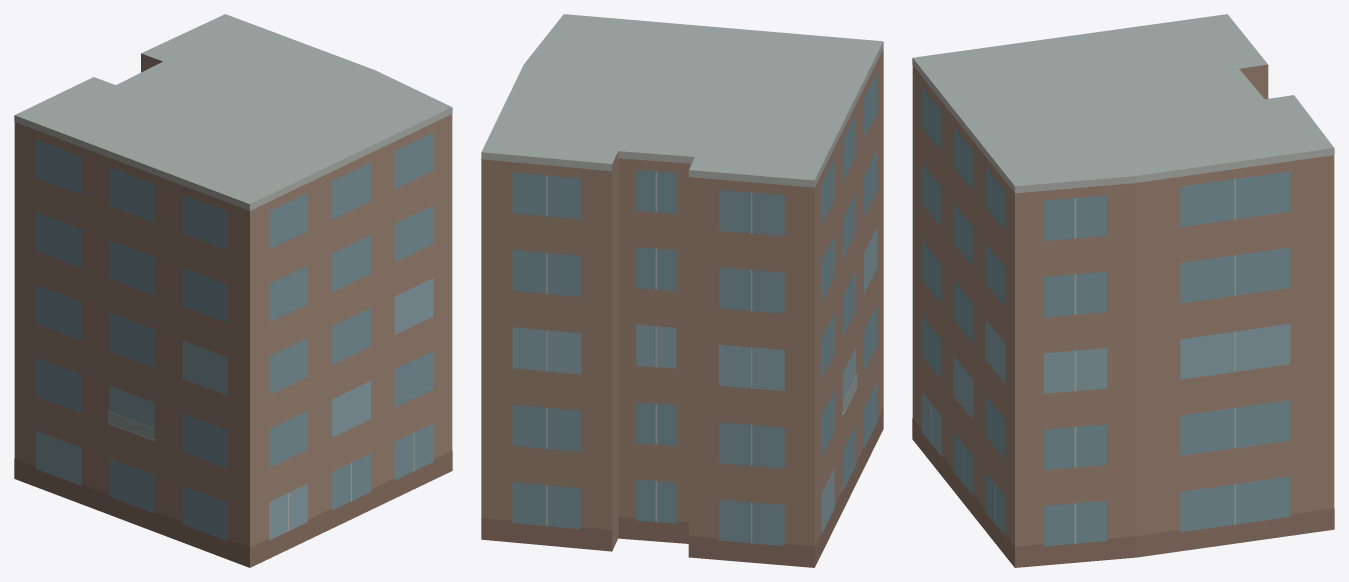
File: survey-upis-32851967.glb
The picture shows the model from 3 angles, left to right: view 1: azimuth 30°, elevation 25°; view 2: azimuth 150°, elevation 25°; view 3: azimuth 270°, elevation 25°; orthographic projection. The views are drawn at different scales.
Visible parts, largest first — view 1: survey-upis-32851967.tmp; view 2: survey-upis-32851967.tmp; view 3: survey-upis-32851967.tmp.
Part boxes in pixels (bbox=[...]): survey-upis-32851967.tmp: bbox=[14, 14, 452, 567]; survey-upis-32851967.tmp: bbox=[481, 14, 883, 567]; survey-upis-32851967.tmp: bbox=[912, 14, 1334, 567].
Size of the model in its own units: 12.9 by 13.3 by 13.34.
